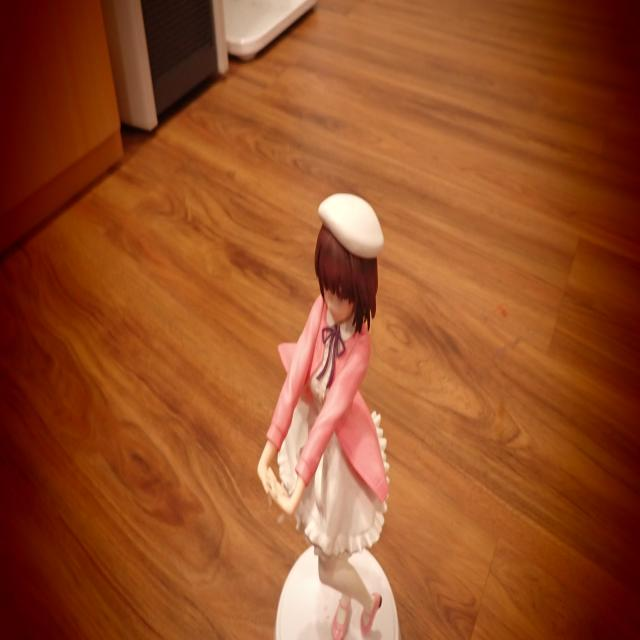My-pink-anime-figure: (258, 194, 388, 639)
